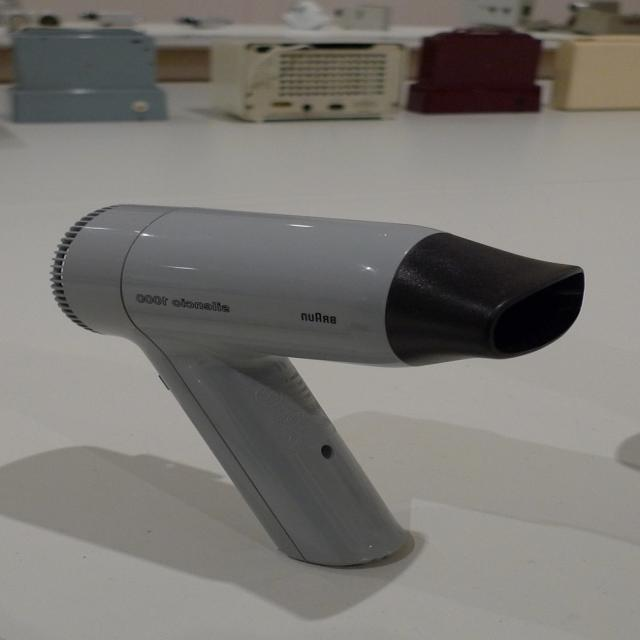dryer: (34, 175, 607, 581)
